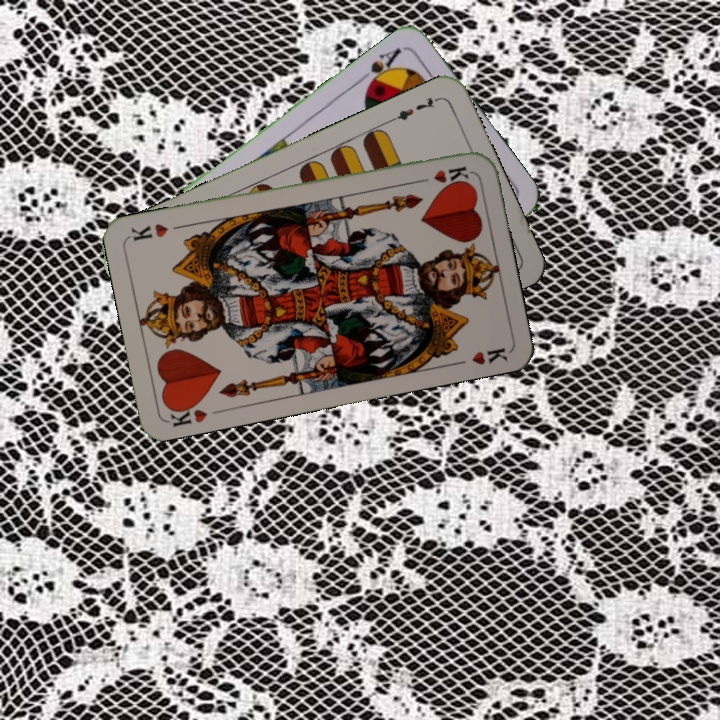E7: (387, 93, 443, 125)
HK: (163, 397, 210, 429), (412, 162, 471, 186)
SA: (362, 43, 404, 92)
